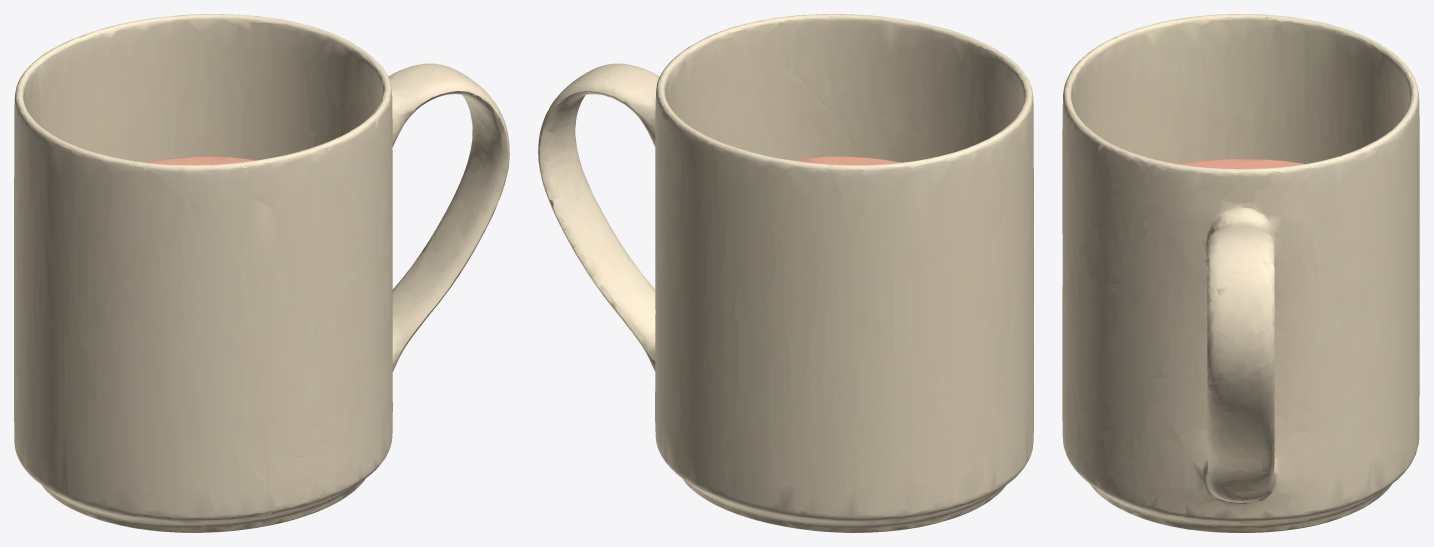
The model's file is kitchen-mug-04.glb.
The picture shows the model from 3 angles, left to right: view 1: azimuth 30°, elevation 25°; view 2: azimuth 150°, elevation 25°; view 3: azimuth 270°, elevation 25°; orthographic projection.
Size of the model in its own units: 1.9 by 1.47 by 1.29.
Materials: 1 (1 with a texture image).
